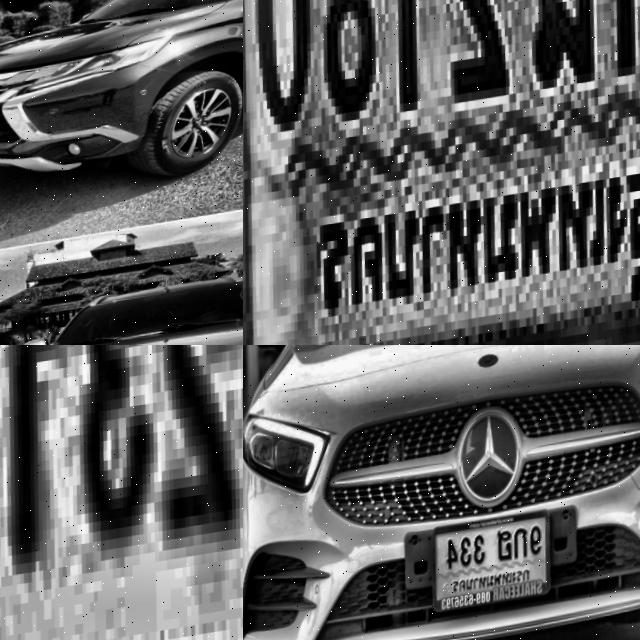license-plate: (243, 0, 640, 345), (0, 345, 243, 640), (430, 514, 558, 619)
